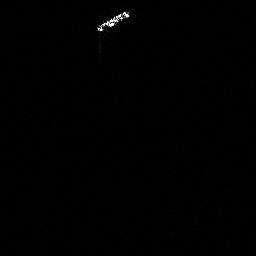ship: (93, 7, 133, 34)
